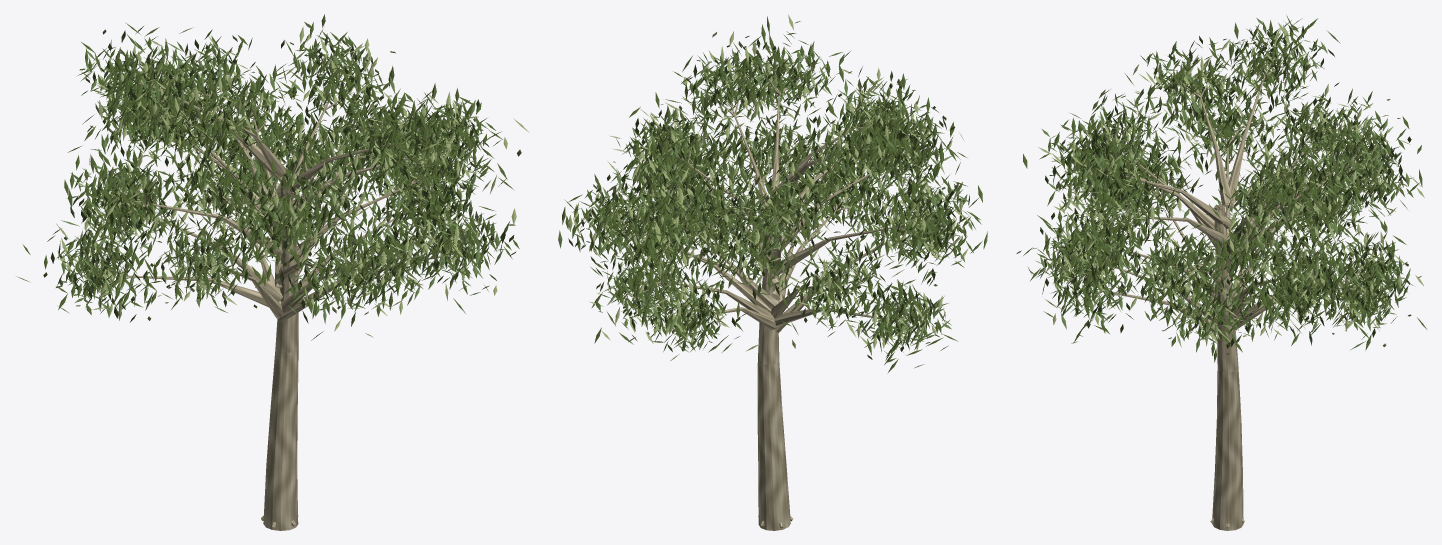
The model's file is mature-eucalypt-a-packed.glb.
3 views of the same model, side by side, from view 1: azimuth 30°, elevation 25°; view 2: azimuth 150°, elevation 25°; view 3: azimuth 270°, elevation 25° (orthographic). The views are drawn at different scales.
Parts seen in each view (by area): view 1: mature-eucalypt-a; view 2: mature-eucalypt-a; view 3: mature-eucalypt-a.
Part boxes in pixels (bbox=[...]): mature-eucalypt-a: bbox=[16, 14, 529, 530]; mature-eucalypt-a: bbox=[558, 14, 987, 530]; mature-eucalypt-a: bbox=[1016, 15, 1426, 530].
Bounding box in the file's own units: 6.21 × 7.34 × 6.
Materials: 4 (2 with a texture image).
